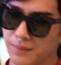without_mask: (2, 1, 61, 65)
